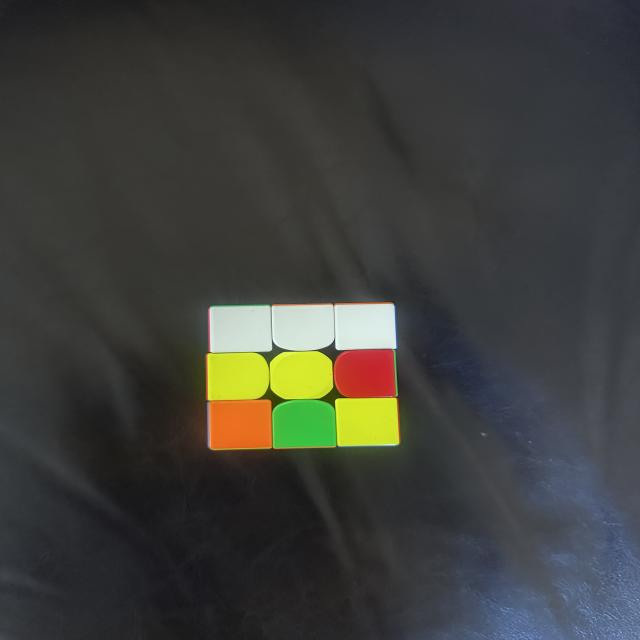sticker: (206, 398, 274, 451), (330, 301, 398, 353), (332, 348, 398, 400), (207, 304, 274, 355), (269, 302, 336, 353), (334, 397, 400, 448), (272, 399, 338, 450), (269, 351, 334, 402), (205, 352, 270, 402)
